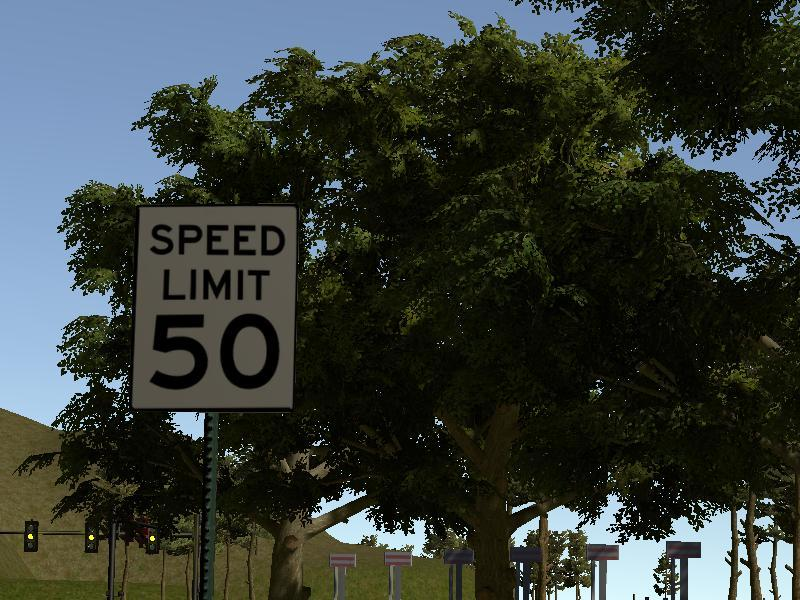Yellow: (145, 518, 162, 555), (22, 521, 38, 553), (85, 520, 98, 554)
